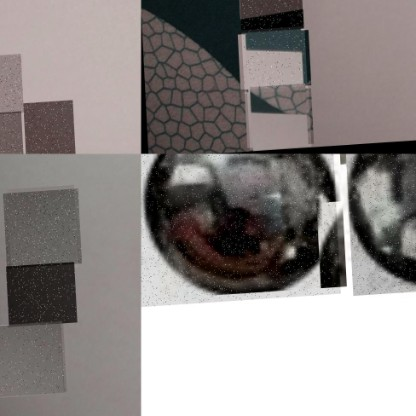ironball: (141, 153, 337, 309), (341, 153, 415, 300), (2, 189, 80, 268), (0, 322, 63, 397), (4, 262, 75, 326), (239, 28, 304, 94), (243, 87, 307, 151), (20, 104, 72, 153), (236, 0, 301, 34), (0, 57, 21, 119), (0, 114, 20, 153)
